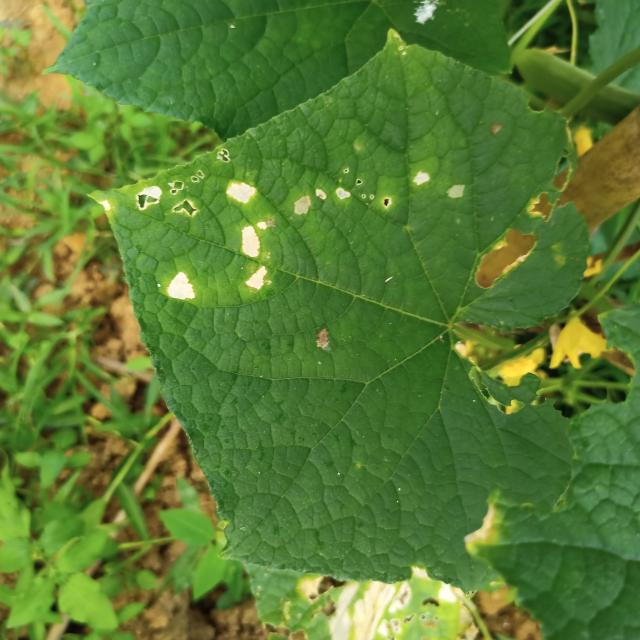disease_cucumber: (97, 162, 284, 332), (291, 129, 476, 233)
